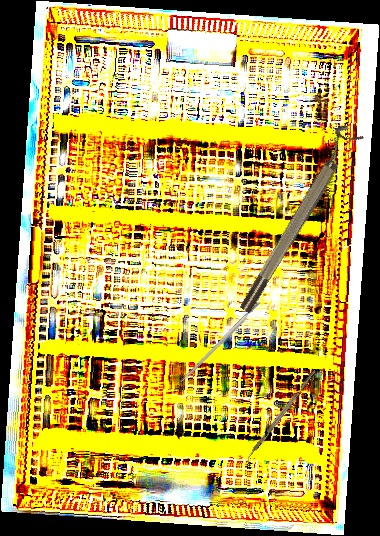Chopper: (242, 369, 322, 466)
Fixation Ring: (228, 122, 365, 316)
Scalpel Handle: (178, 300, 263, 385)
